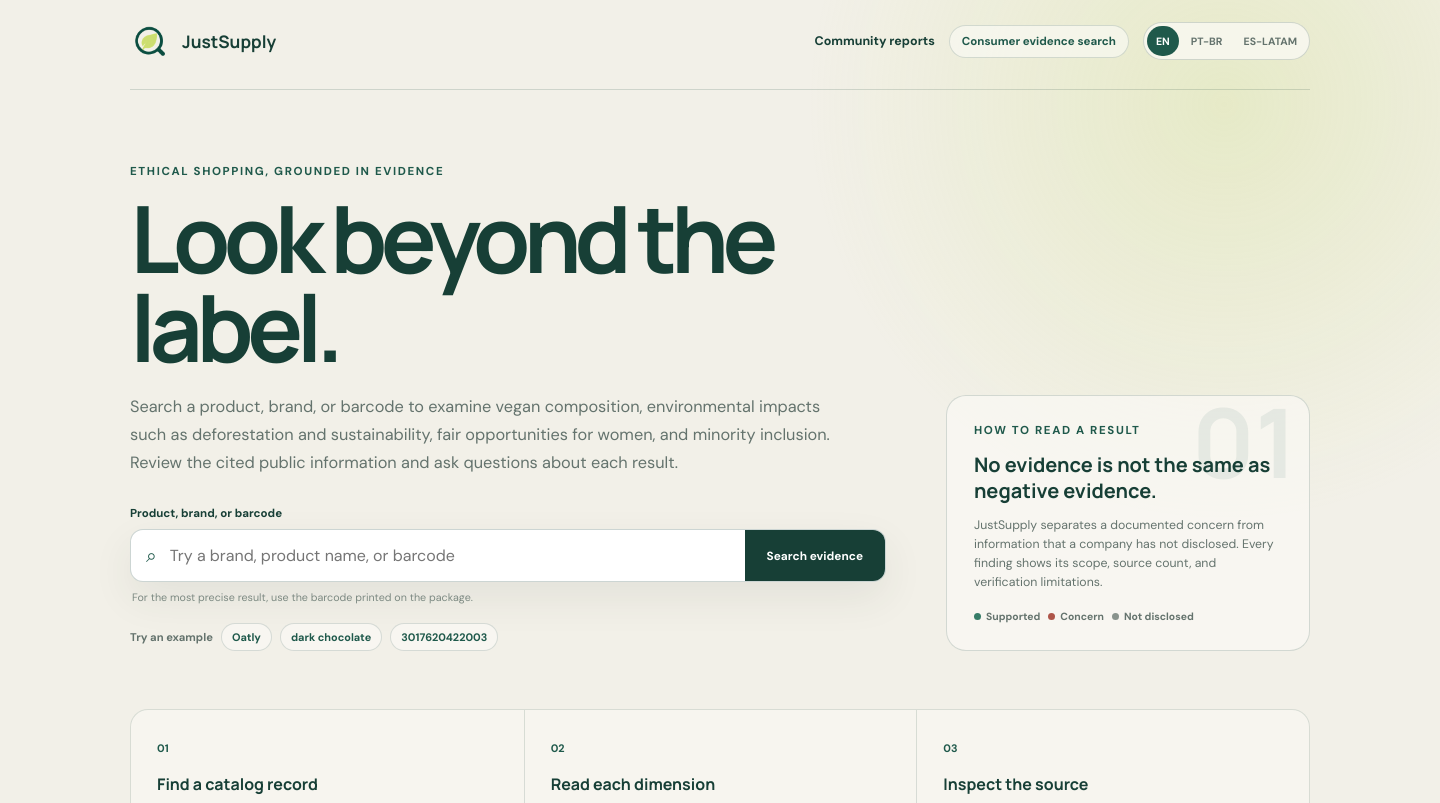
Test case: consumer evidence experience › shows product image and transparent evidence labels
The image size is (1440, 803).
Type "7891000100103" into the field labelled "Product, brand, or barcode" at coordinates (451, 556), box top-left (157, 530), bottom-right (745, 581)
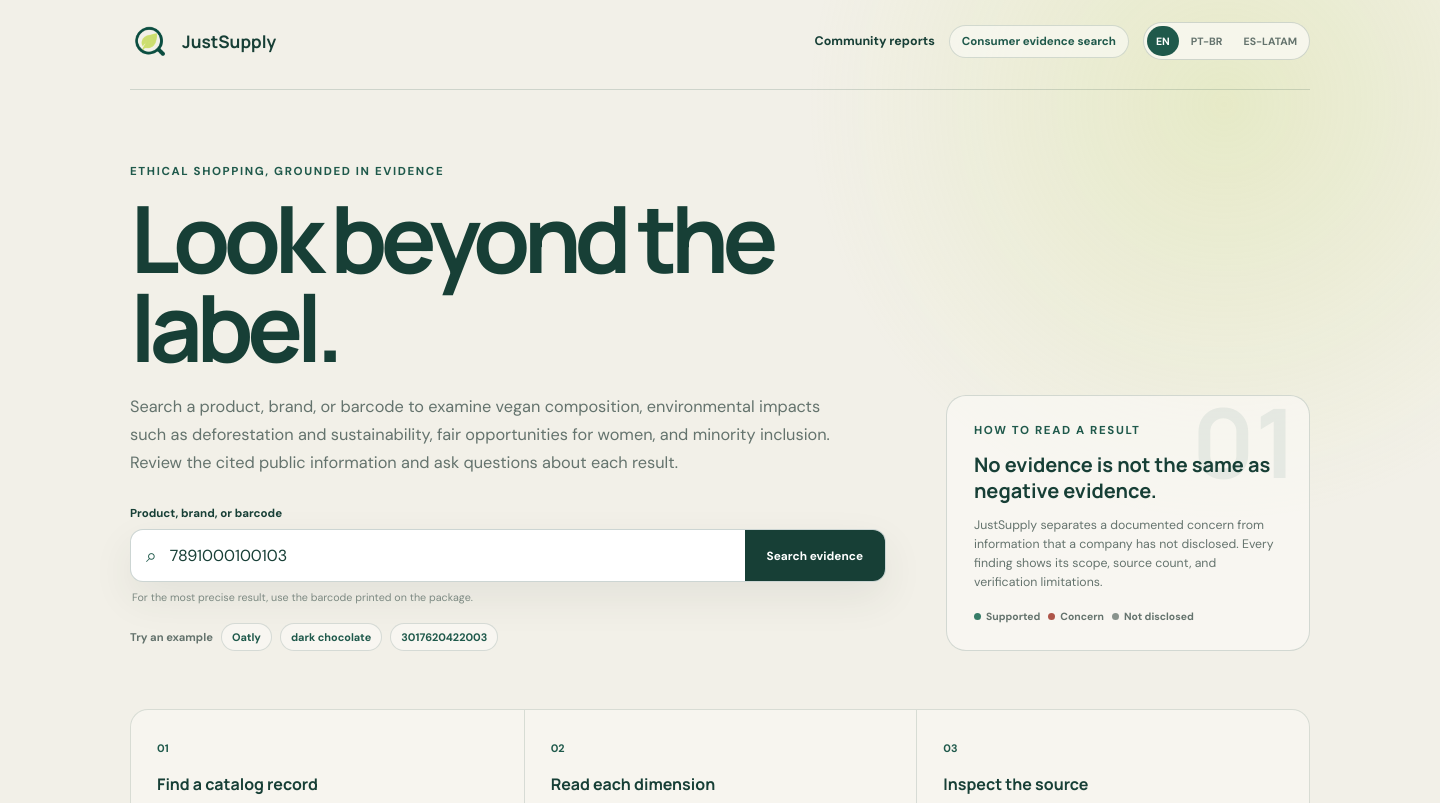
Click the button "Search evidence" at coordinates (815, 556), box top-left (744, 530), bottom-right (885, 581)
(page scrolled)
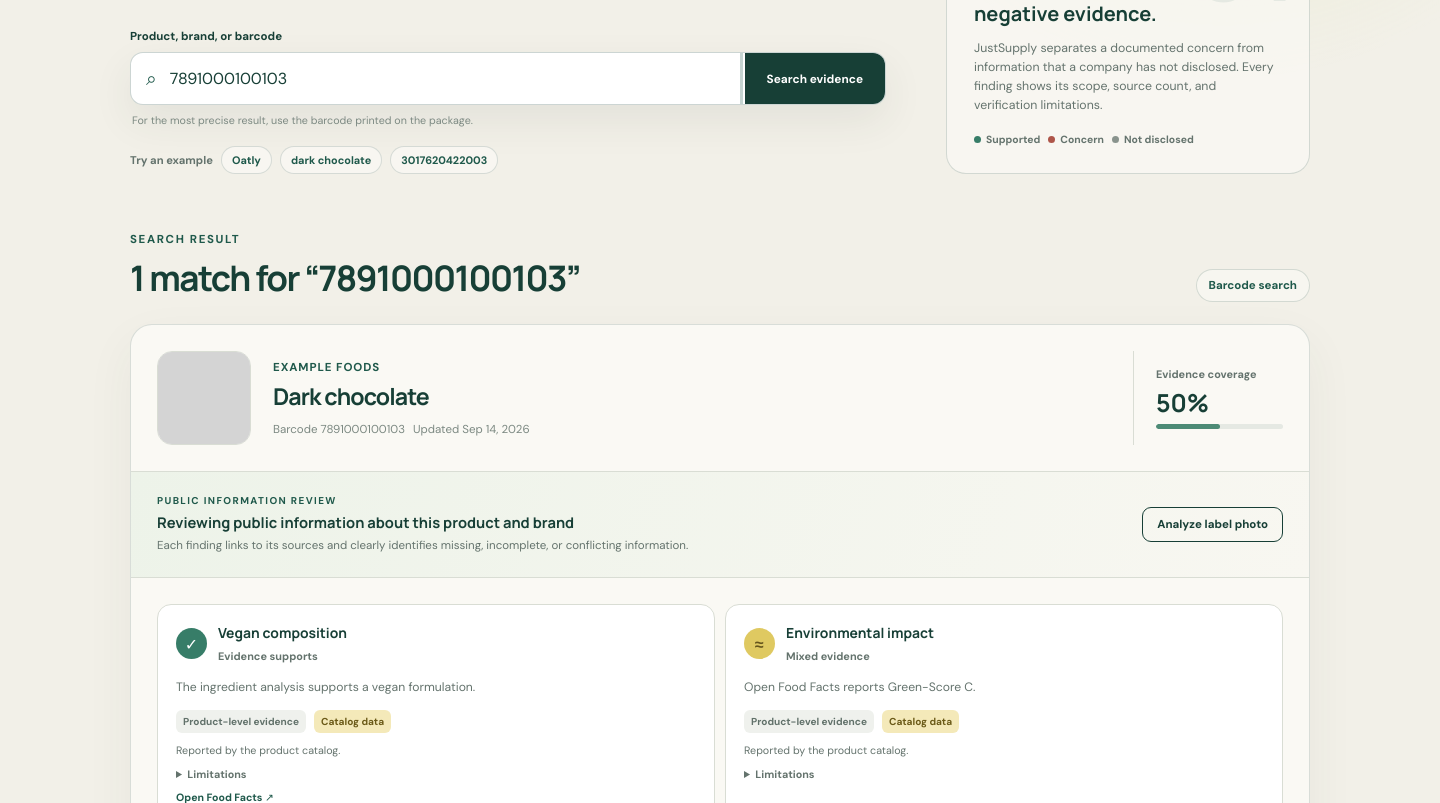
Expected: the heading "Dark chocolate" is shown, top-left (273, 380), bottom-right (429, 412)
